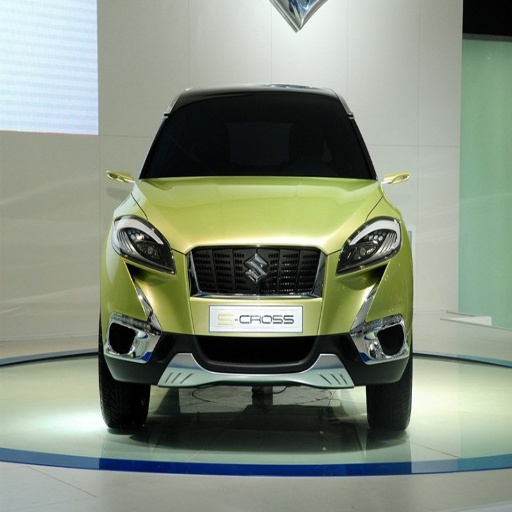front_bumper: (104, 245, 409, 387)
front_right_light: (111, 214, 175, 271)
hood: (135, 177, 381, 251)
